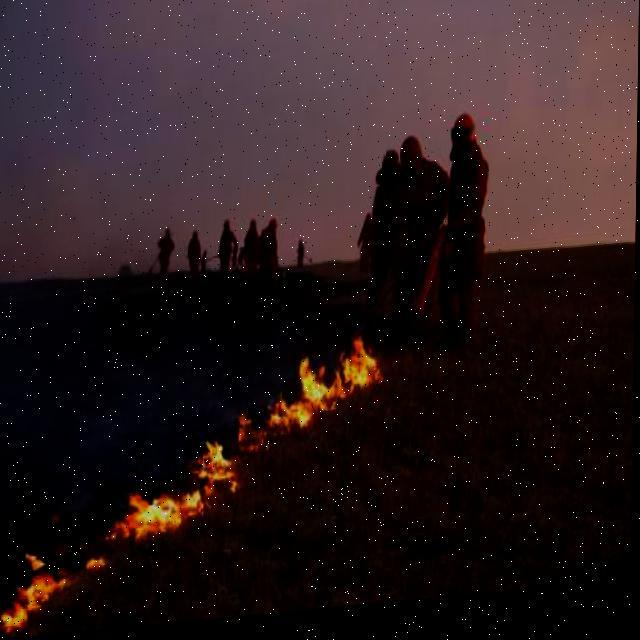Fire: (114, 344, 384, 542), (0, 542, 105, 628)
